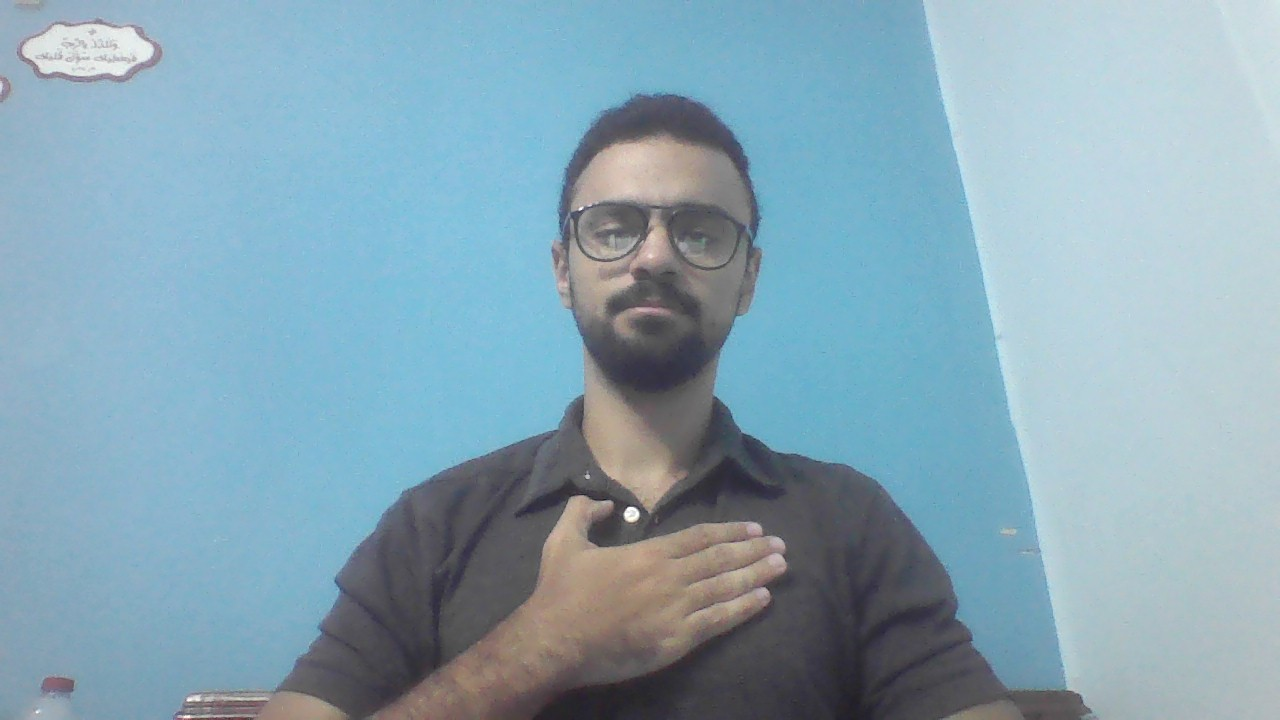please: (534, 489, 792, 686)
